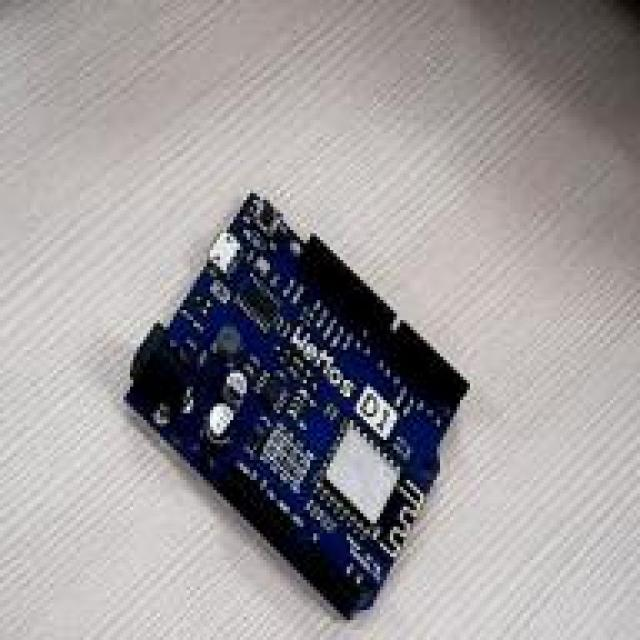Wemos: (128, 194, 468, 614)
